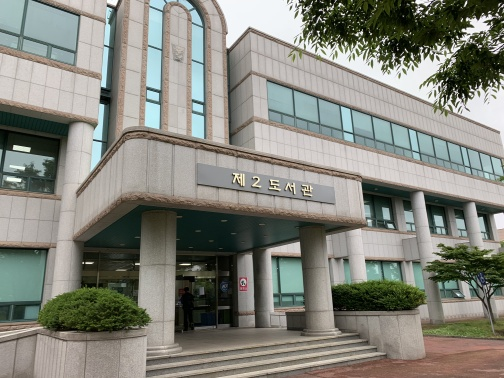Second Library: (50, 10, 433, 368)
